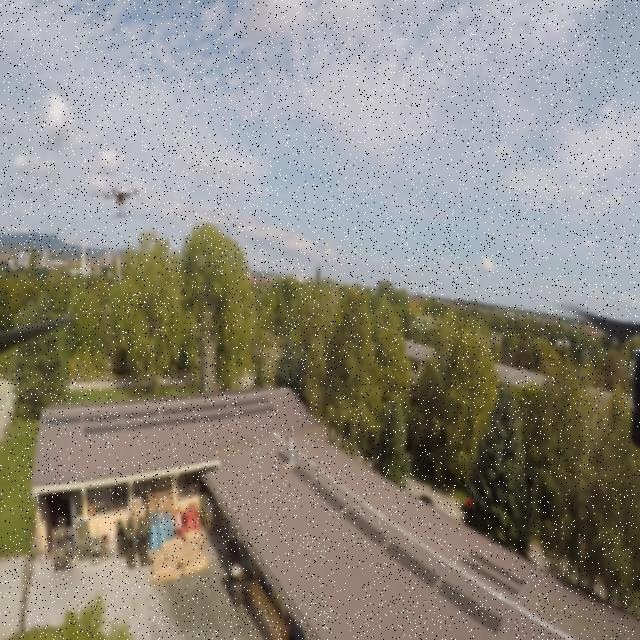UAV: (98, 178, 143, 220)
